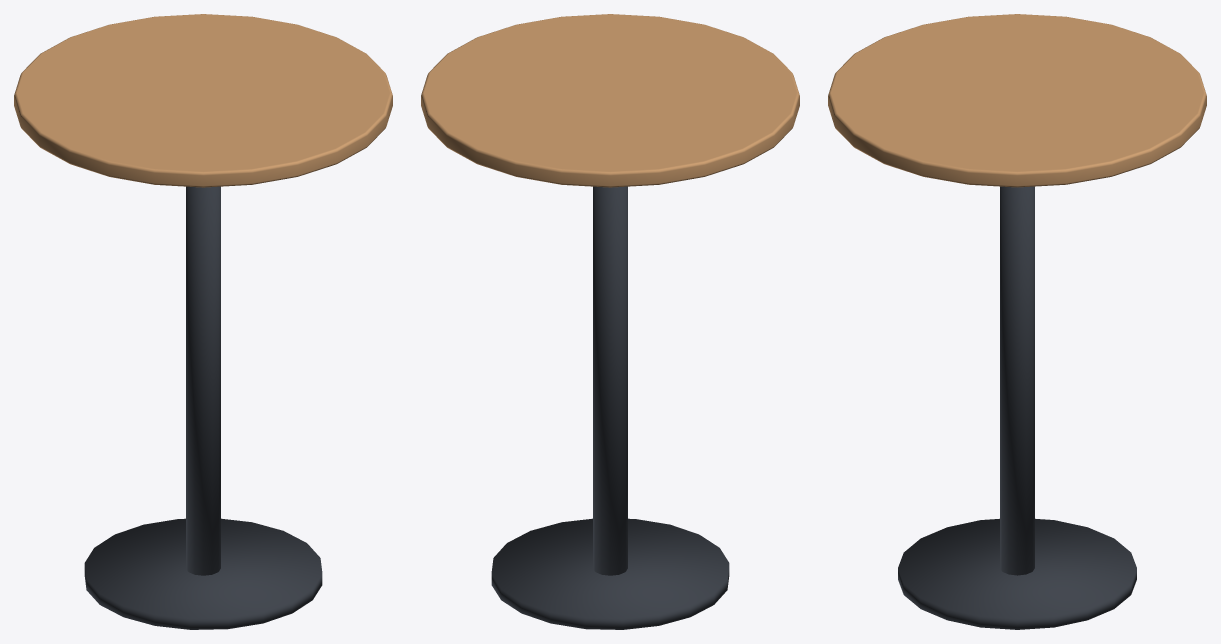
File: StandingTable.fbx
3 renders of one model, left to right at view 1: azimuth 30°, elevation 25°; view 2: azimuth 150°, elevation 25°; view 3: azimuth 270°, elevation 25°, orthographic.
Parts seen in each view (by area): view 1: StandingTableBody; view 2: StandingTableBody; view 3: StandingTableBody.
Boxes of the visible parts, x1,y1,x2,y2 form: StandingTableBody: (14,14,392,629); StandingTableBody: (421,14,799,629); StandingTableBody: (828,14,1206,629).
Size of the model in its own units: 0.76 by 1.08 by 0.76.
